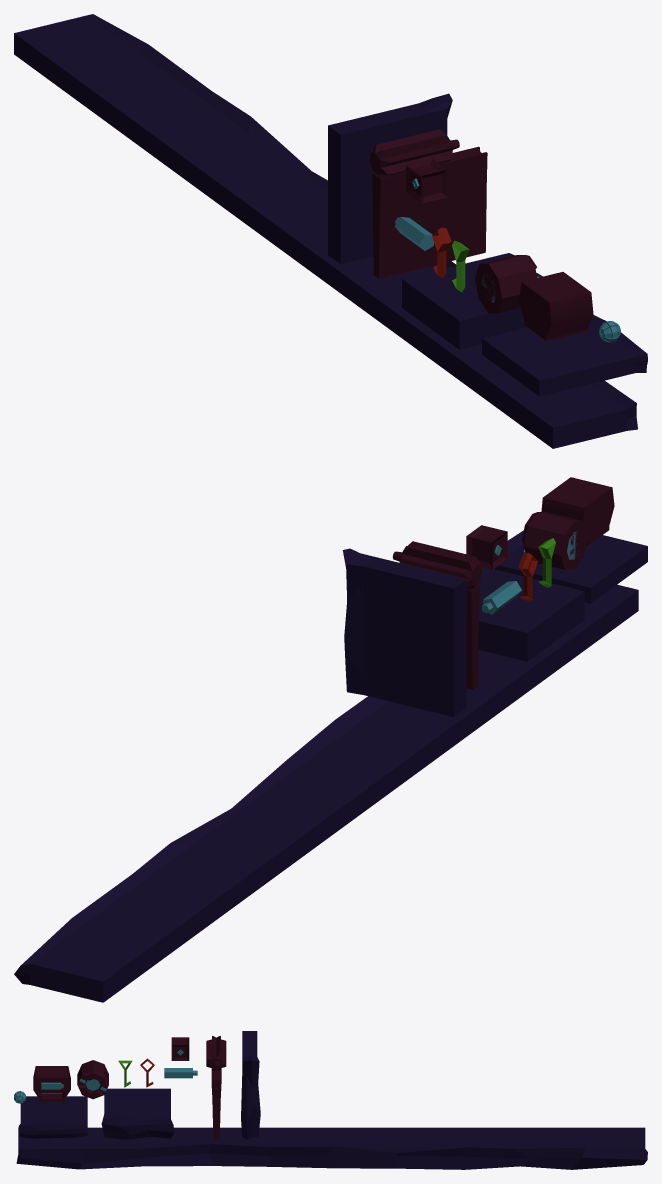
The model's file is DesignWeekItemAssets.fbx.
The picture shows the model from 3 angles, top to bottom: view 1: azimuth 30°, elevation 25°; view 2: azimuth 150°, elevation 25°; view 3: azimuth 270°, elevation 25°; orthographic projection. The views are drawn at different scales.
Parts seen in each view (by area): view 1: Box247, Box246, Box248, Box244, Box245, Box243, Cylinder005, Box249, Cylinder006, Line002; view 2: Box247, Box248, Box245, Box244, Box246, Box243, Cylinder005, Box249, Cylinder006; view 3: Box247, Box245, Box244, Box248, Box246, Box243, Cylinder005, Box249, Cylinder006.
Boxes of the visible parts, <box> form: Box247: <box>14,14,637,448</box>; Box246: <box>369,129,487,278</box>; Box248: <box>328,93,452,264</box>; Box244: <box>482,315,647,396</box>; Box245: <box>402,253,542,349</box>; Box243: <box>519,272,593,340</box>; Cylinder005: <box>475,255,539,313</box>; Box249: <box>406,158,447,203</box>; Cylinder006: <box>394,217,433,250</box>; Line002: <box>432,227,451,278</box>; Box247: <box>14,584,638,1002</box>; Box248: <box>342,548,466,716</box>; Box245: <box>478,567,584,661</box>; Box244: <box>494,530,647,603</box>; Box246: <box>392,541,482,689</box>; Box243: <box>541,477,614,545</box>; Cylinder005: <box>522,512,587,569</box>; Box249: <box>466,525,507,569</box>; Cylinder006: <box>482,581,521,614</box>; Box247: <box>16,1127,647,1169</box>; Box245: <box>101,1088,174,1139</box>; Box244: <box>18,1096,87,1138</box>; Box248: <box>241,1031,260,1139</box>; Box246: <box>206,1036,226,1140</box>; Box243: <box>33,1066,70,1101</box>; Cylinder005: <box>77,1060,108,1099</box>; Box249: <box>171,1037,189,1060</box>; Cylinder006: <box>164,1068,197,1078</box>.
Bounding box in the file's own units: 454 × 706 × 3562.
